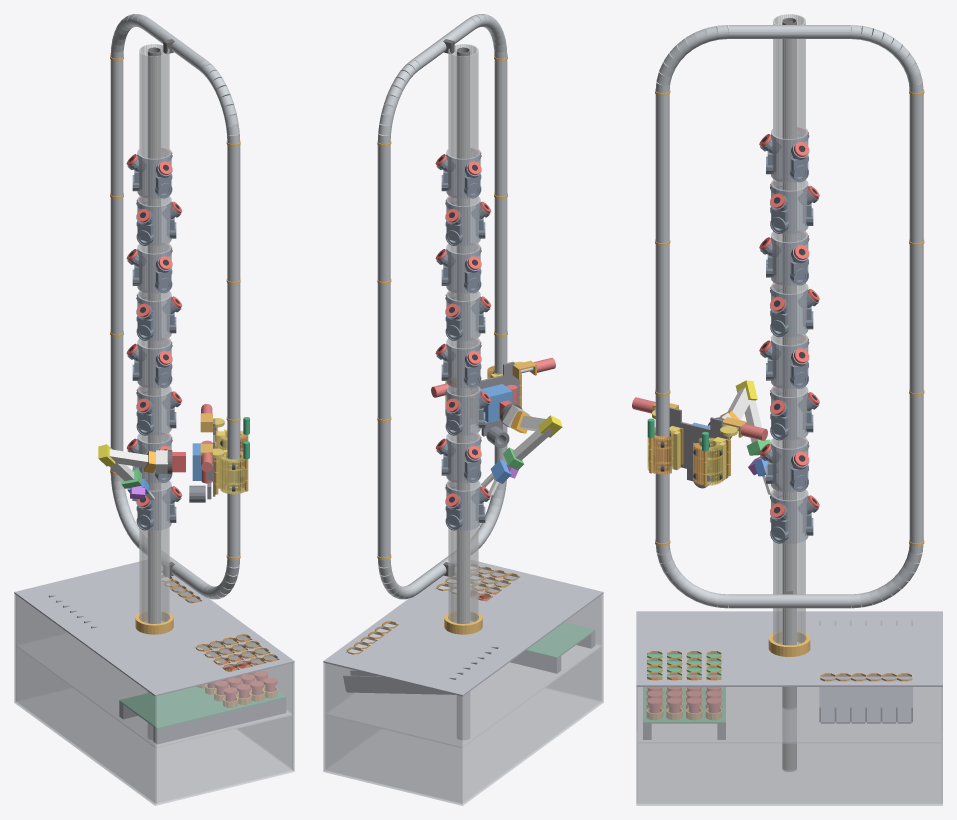
The model's file is reach-test-example-v2.glb.
3 views of the same model, side by side, from view 1: azimuth 30°, elevation 25°; view 2: azimuth 150°, elevation 25°; view 3: azimuth 270°, elevation 25° (orthographic). The views are drawn at different scales.
Bounding box in the file's own units: 0.4225 × 1.9 × 0.7096.
